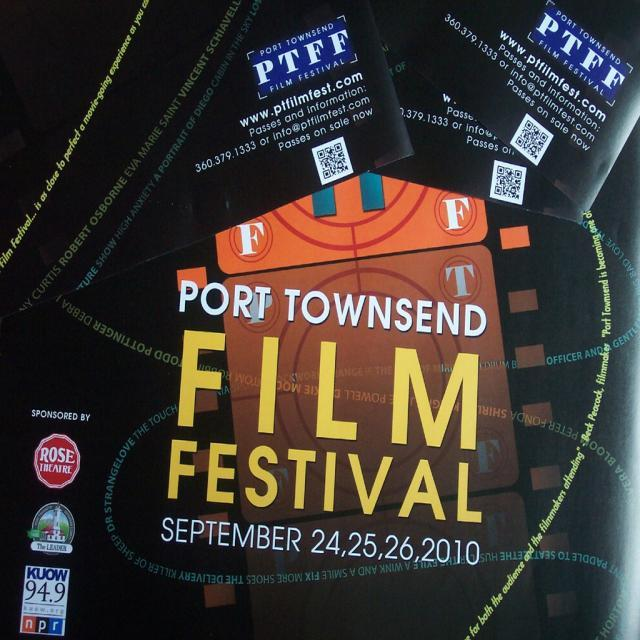qr-code: (515, 119, 548, 159), (316, 142, 348, 180), (494, 164, 522, 200)
